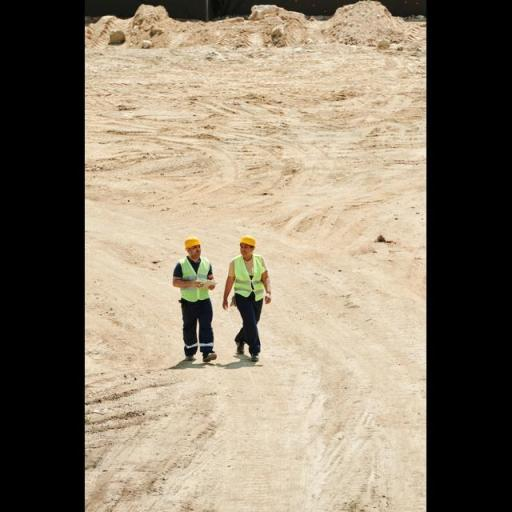Person: (170, 217, 226, 376), (225, 219, 274, 379)
boots: (236, 338, 262, 365), (184, 348, 218, 368)
helmet: (239, 234, 259, 251), (183, 236, 203, 252)
none: (253, 292, 277, 307), (186, 278, 210, 292), (217, 297, 241, 311)
vest: (231, 253, 264, 303), (180, 255, 212, 305)
